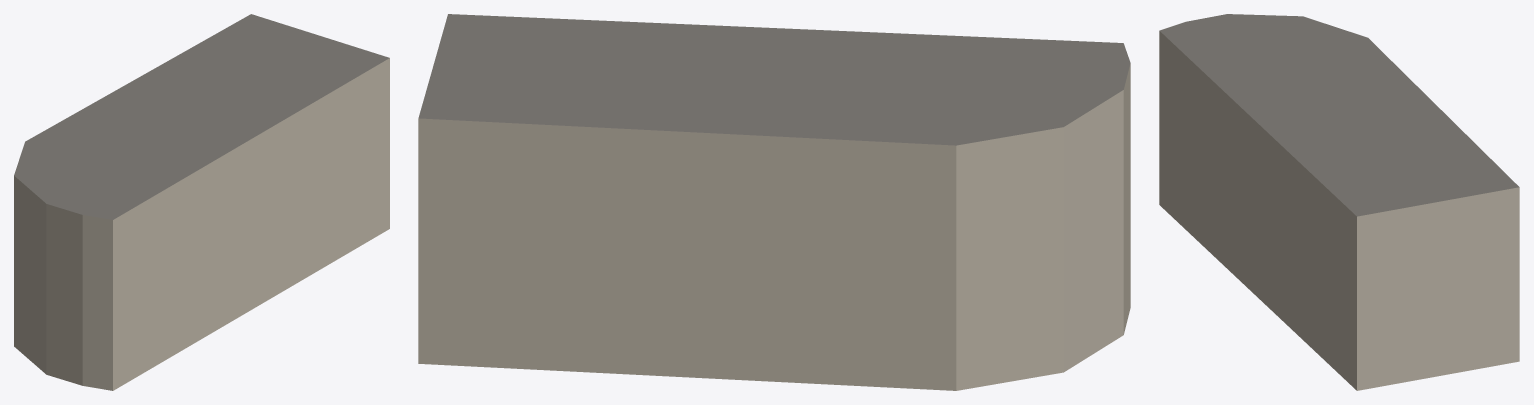
The picture shows the model from 3 angles, left to right: view 1: azimuth 30°, elevation 25°; view 2: azimuth 150°, elevation 25°; view 3: azimuth 270°, elevation 25°; orthographic projection. The views are drawn at different scales.
Parts seen in each view (by area): view 1: HP-w380339913; view 2: HP-w380339913; view 3: HP-w380339913.
Part boxes in pixels (x1,y1,x2,y2): HP-w380339913: (14,14,389,390); HP-w380339913: (418,14,1130,390); HP-w380339913: (1159,14,1519,390).
Bounding box in the file's own units: 44.86 × 18 × 33.71.
